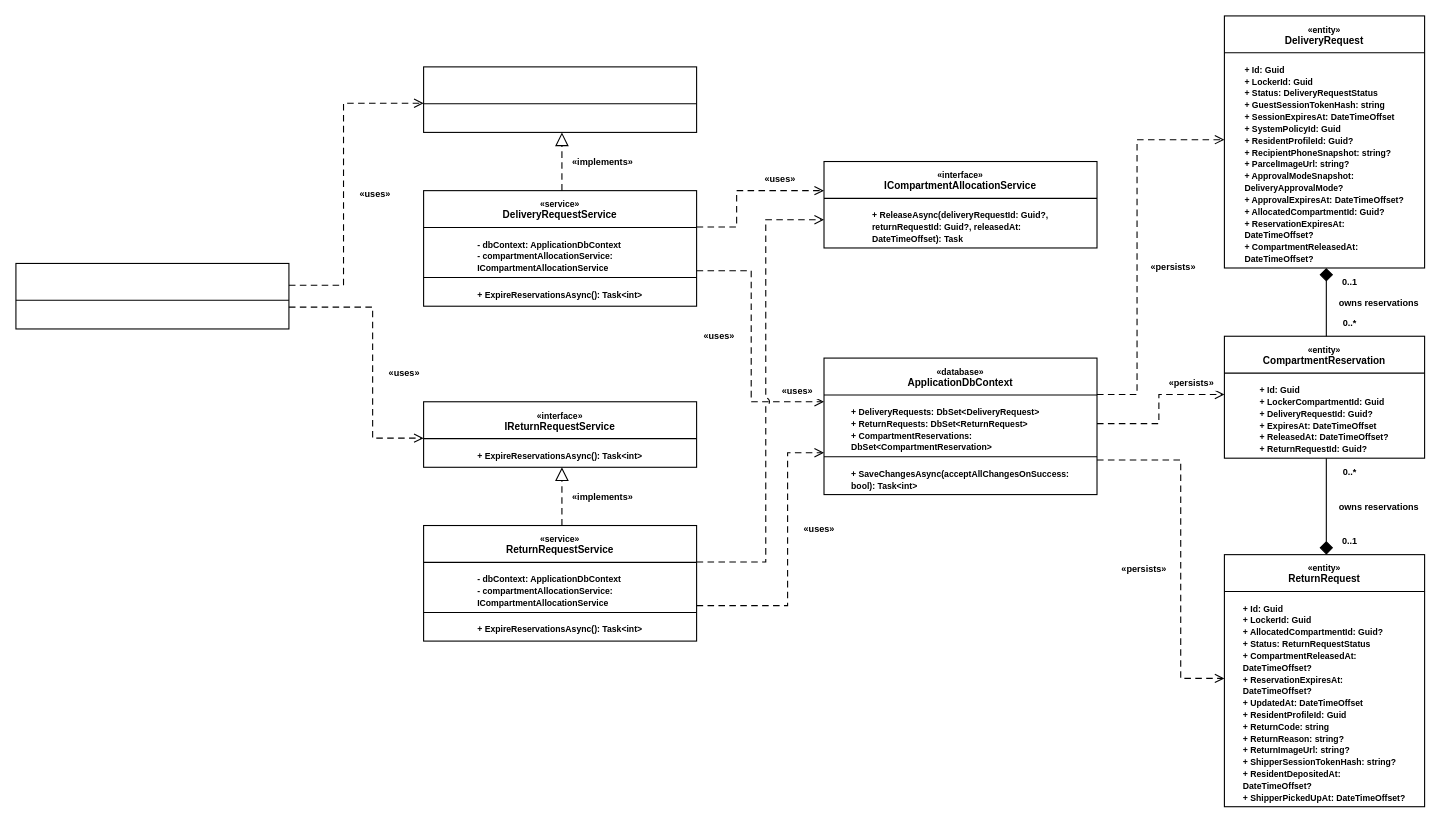
Some shapes in this 1441 by 827 pixel diagram are drawn without their labels. Each missing label, with the box of its shape:
«interface» IDeliveryRequestService + ExpireReservationsAsync(): Task<int>: (423, 66, 697, 132)
«worker» DeliveryRequestExpirationWorker # ExecuteAsync(): Task: (15, 262, 289, 329)
